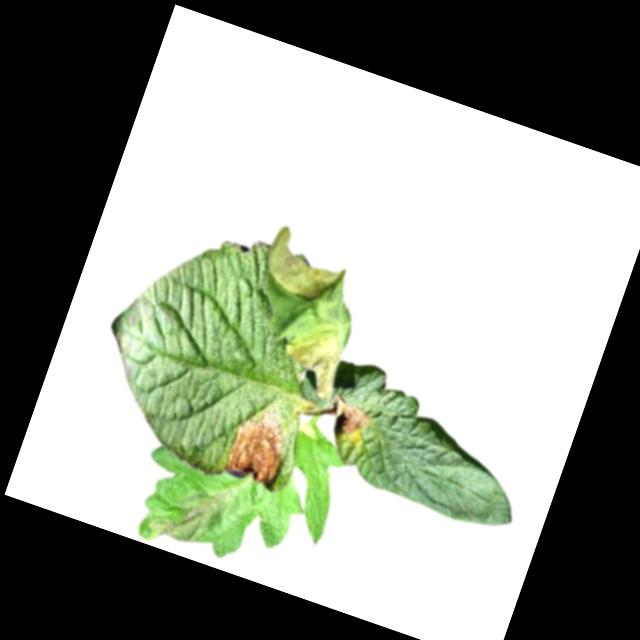Late_blight: (142, 466, 232, 562), (257, 221, 350, 309), (222, 400, 301, 492), (274, 313, 353, 402), (324, 393, 375, 441)
